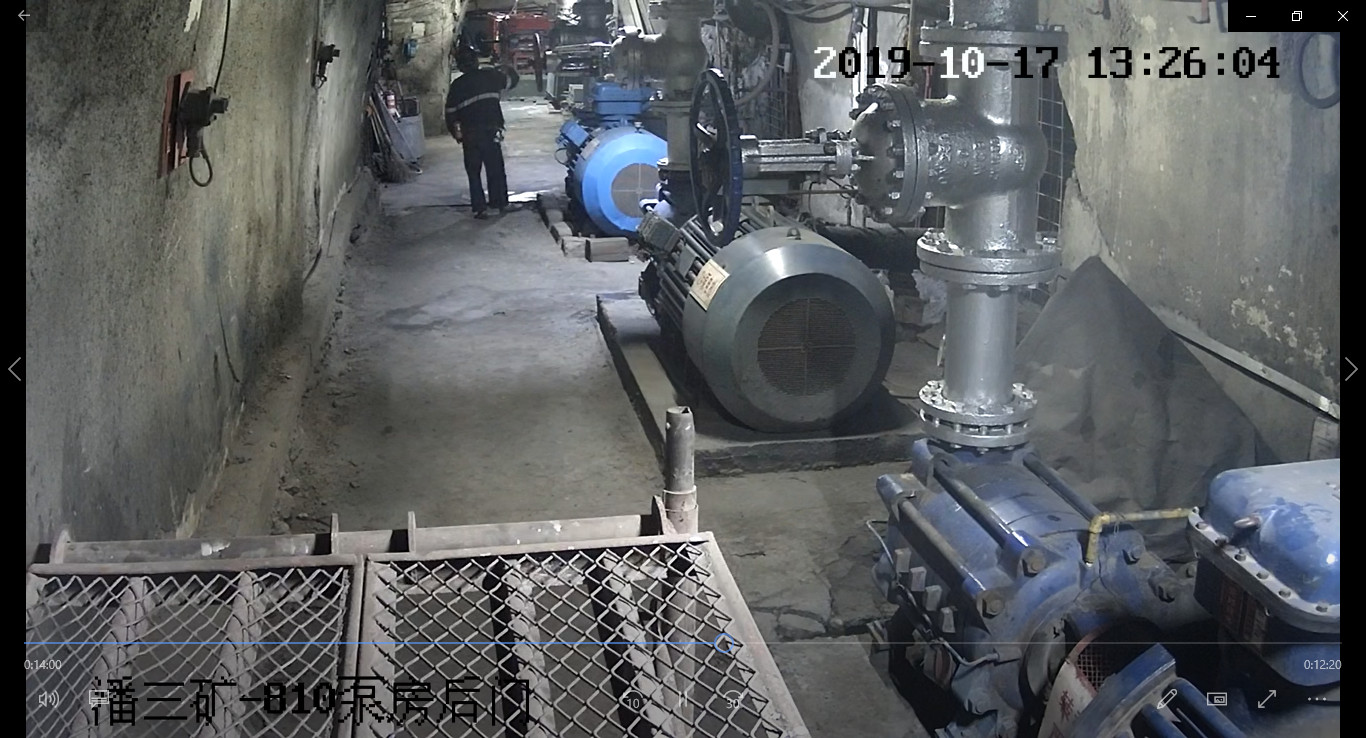helmet: (454, 44, 479, 62)
